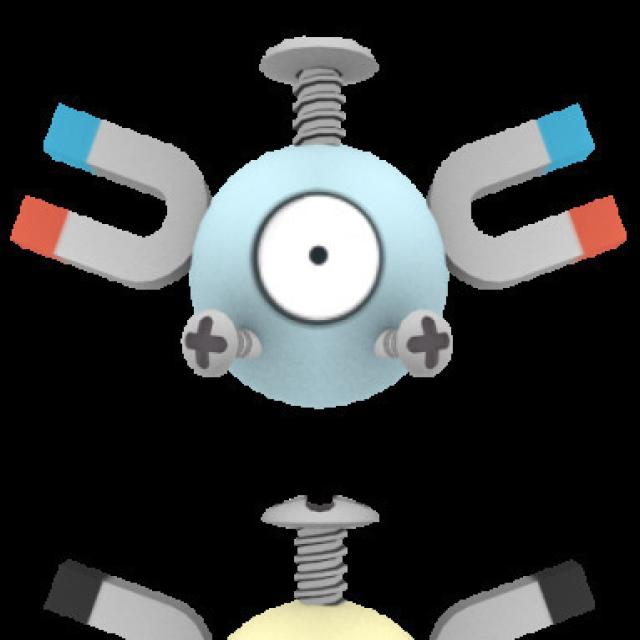Magnemite: (27, 100, 613, 408)
